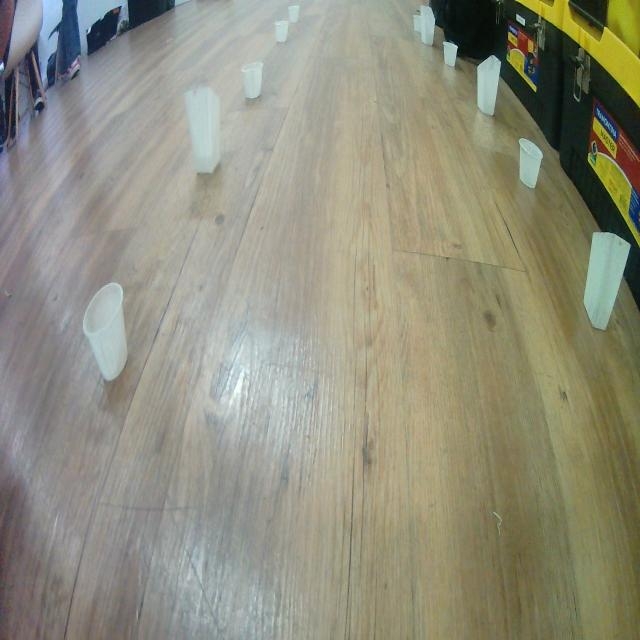erva_daninha: (583, 230, 631, 332), (184, 86, 222, 174), (476, 53, 502, 117), (420, 5, 436, 47)
planta: (83, 282, 129, 382), (518, 137, 544, 190), (241, 61, 264, 100), (442, 40, 459, 68), (274, 19, 289, 44), (288, 4, 300, 23), (412, 14, 423, 34)
